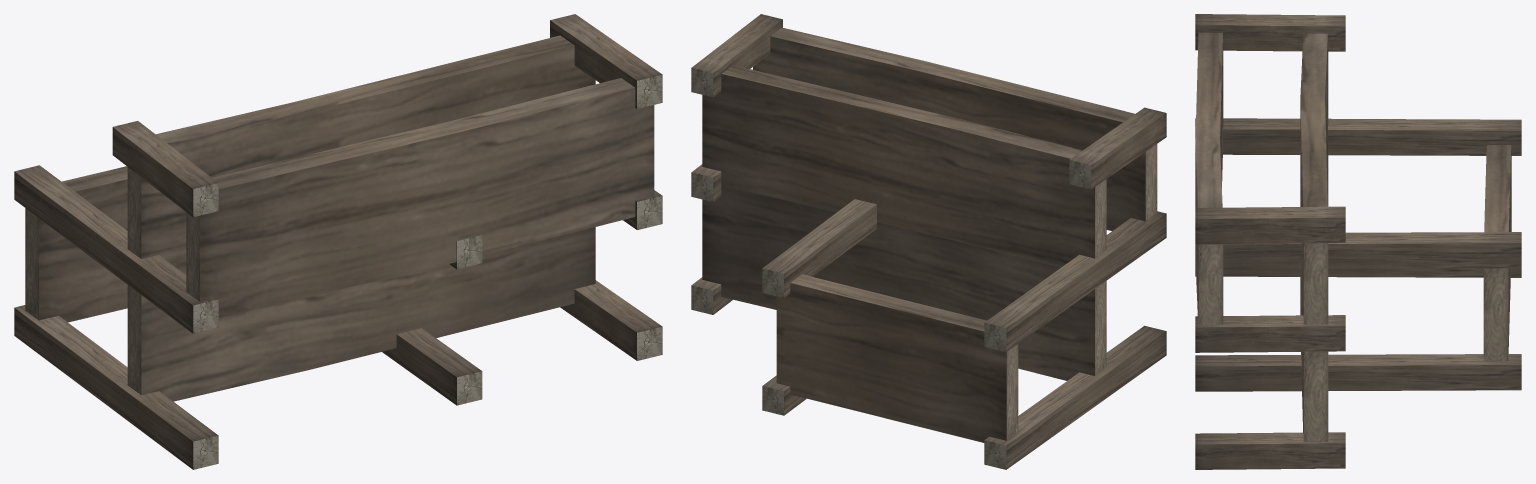
File: Counter_Type_01_E.fbx
The picture shows the model from 3 angles, left to right: view 1: azimuth 30°, elevation 25°; view 2: azimuth 150°, elevation 25°; view 3: azimuth 270°, elevation 25°; orthographic projection. The views are drawn at different scales.
Visible parts, largest first — view 1: Counter_Type_01_E; view 2: Counter_Type_01_E; view 3: Counter_Type_01_E.
Part boxes in pixels (x1,y1,x2,y2): Counter_Type_01_E: (14,14,662,469); Counter_Type_01_E: (691,14,1166,469); Counter_Type_01_E: (1195,14,1521,469).
Size of the model in its own units: 3.37 by 1.93 by 2.27.
